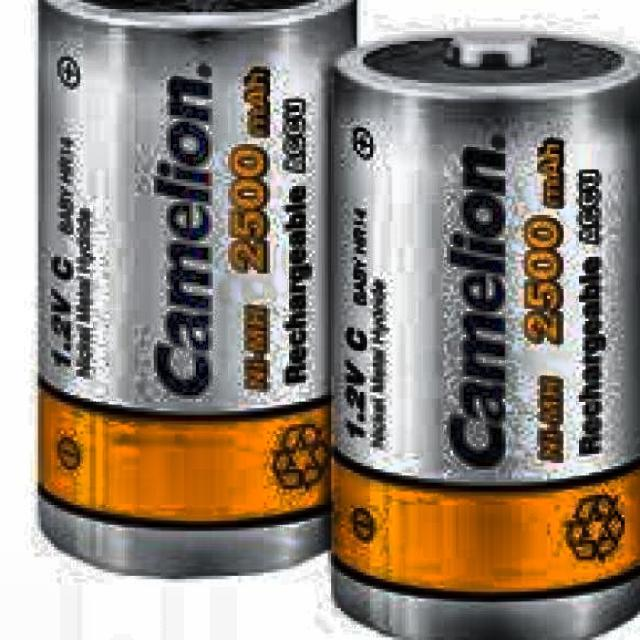battery: (331, 30, 640, 640), (38, 0, 358, 580)
